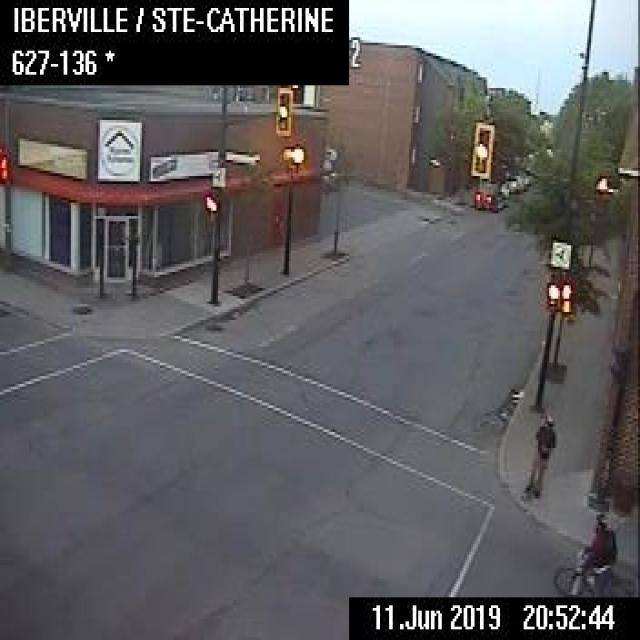cyclist: (551, 509, 633, 595)
pedestrian: (520, 411, 556, 506)
vehicle: (474, 180, 506, 210), (504, 172, 523, 193)
